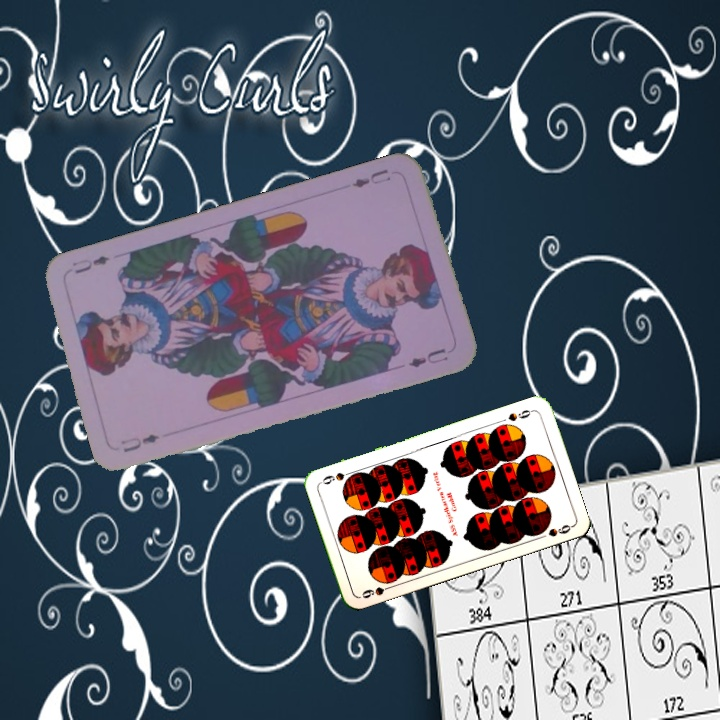EU: (347, 165, 393, 191), (116, 430, 162, 455)
S9: (356, 575, 396, 601), (504, 405, 536, 424)
